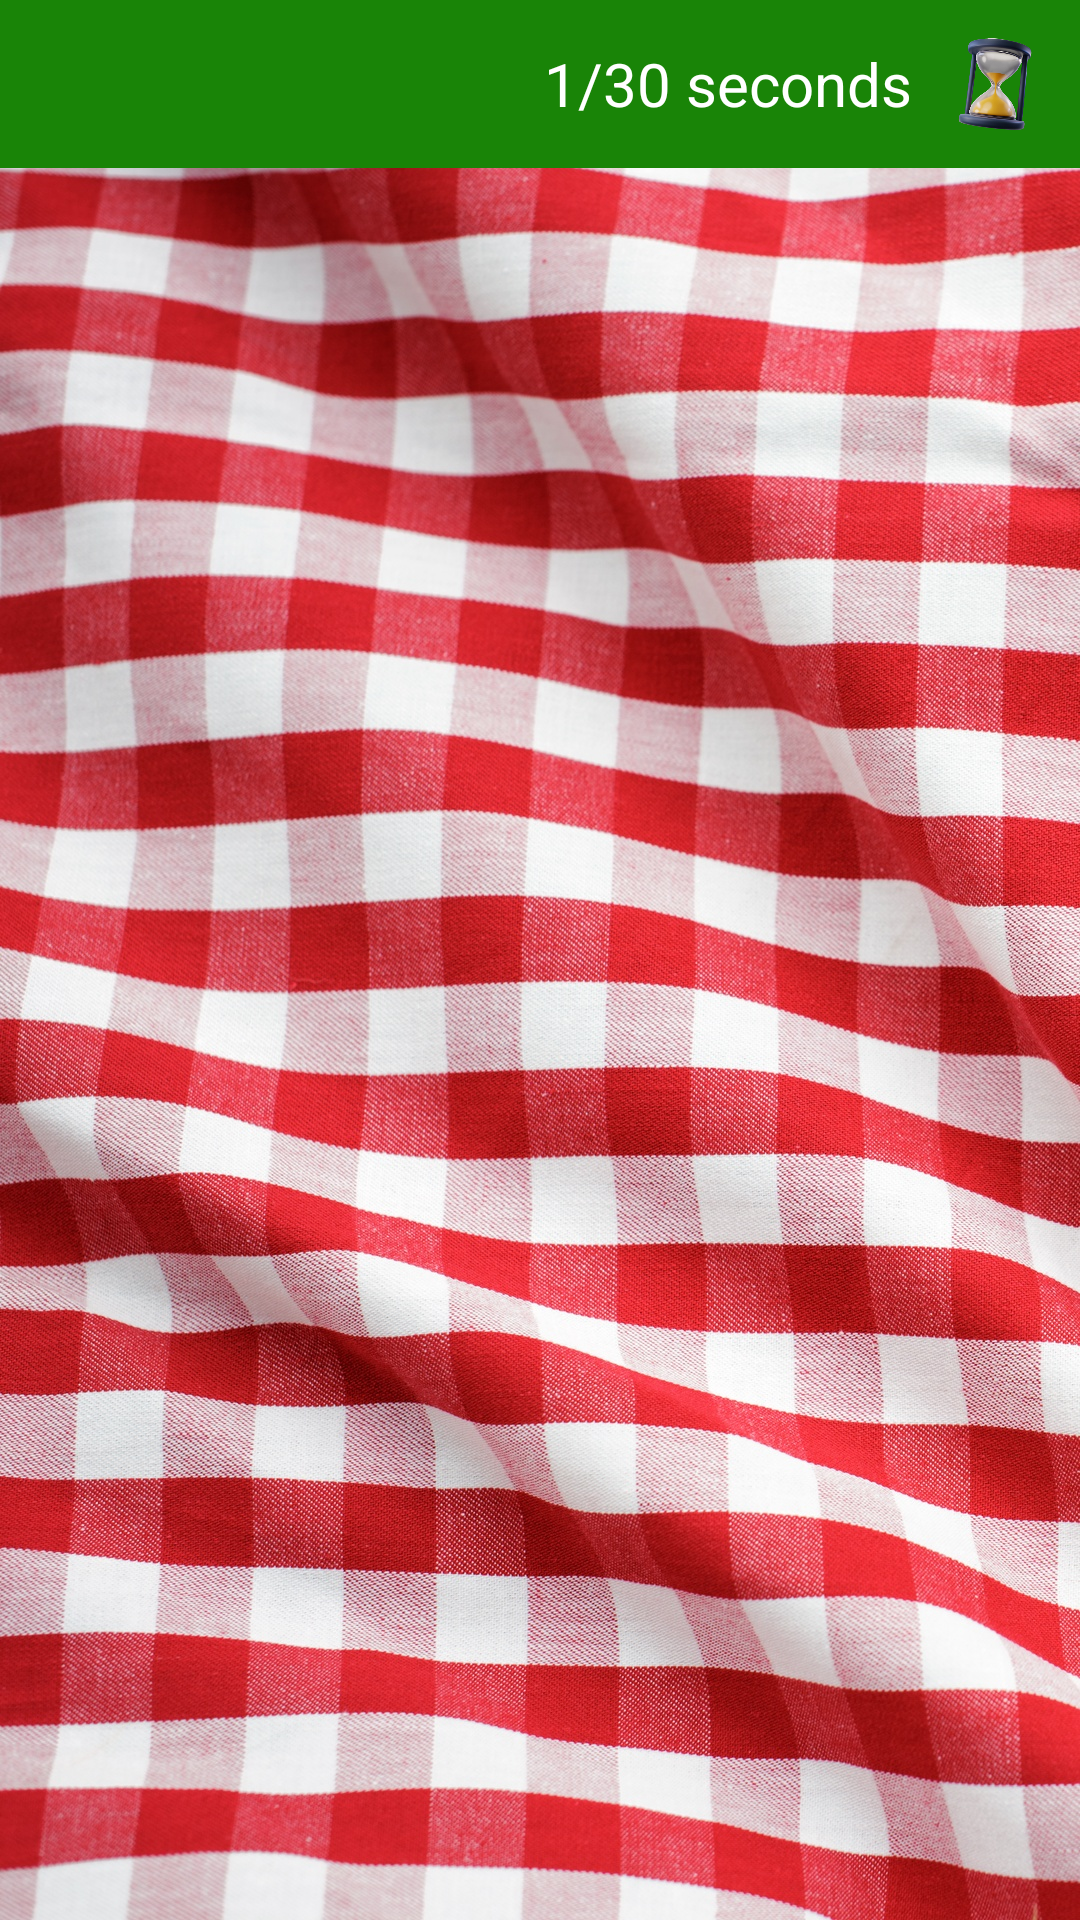

Point at icon controls on the screen. Image size 1080 x 1920, points as (x=x, y=y).
sand clock: (x=995, y=84)
